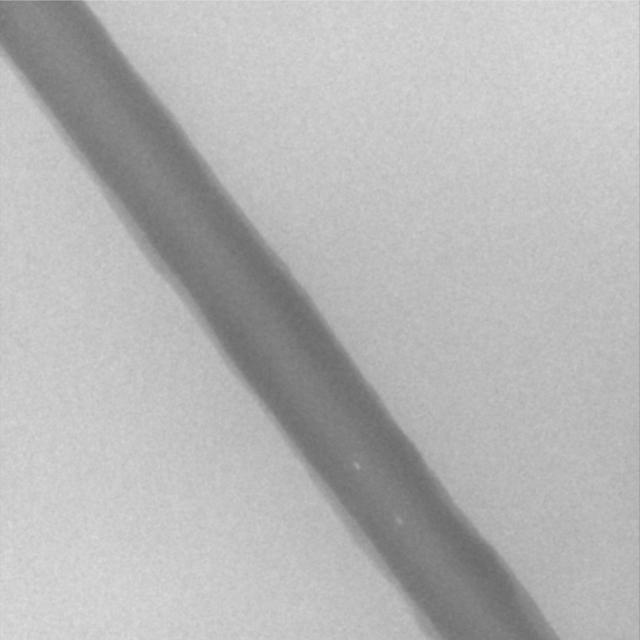air hole: (351, 460, 361, 471), (395, 515, 403, 526)
